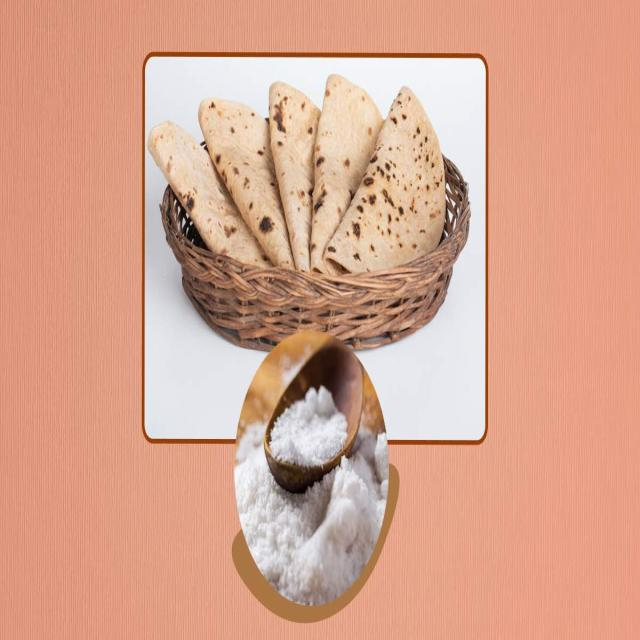ROTI: (327, 88, 446, 282), (151, 122, 273, 266), (201, 102, 293, 272), (305, 76, 383, 274), (272, 77, 319, 282)
